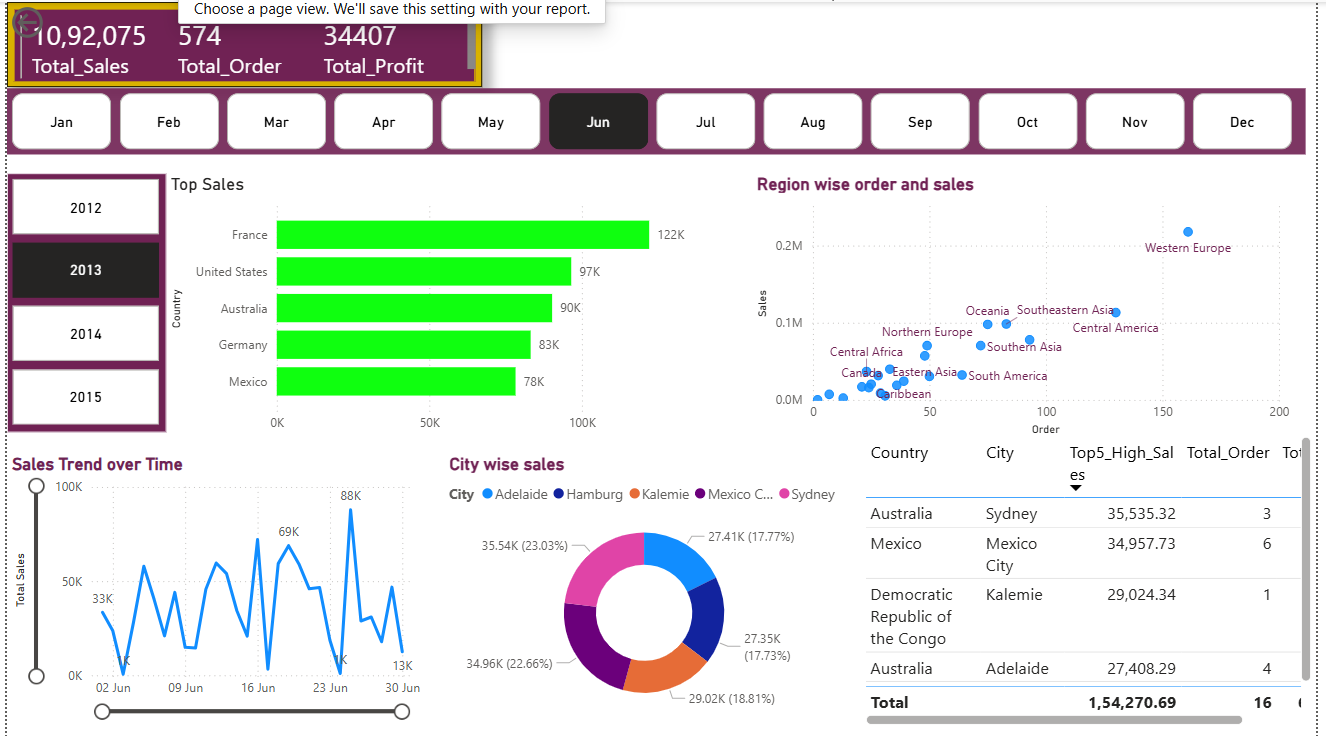

This screenshot's page, from the dashboard's own definition file:
{"tool":"powerbi","page":{"name":"Page 1","canvas":[1280,720],"ordinal":0},"visuals":[{"type":"multiRowCard","fields":{"Values":["Orders.Total_Sales","Orders.Total_Order","Orders.Total_Profit"]},"box":[0,0,464.5,83.6],"z":0},{"type":"barChart","title":"Top Sales","fields":{"Category":["Orders.Country"],"Y":["Orders.Top5_High_Sales"]},"box":[155.8,167.1,542.4,262],"z":1000},{"type":"advancedSlicerVisual","fields":{"Values":["Order_by_date.Month_name"]},"box":[0,85,1270.4,65.1],"z":2000},{"type":"advancedSlicerVisual","fields":{"Values":["Order_by_date.Year"]},"box":[0,167.1,155.8,253.5],"z":3000},{"type":"lineChart","title":"Sales Trend over Time","fields":{"Category":["Order_by_date.Date.Variation.Date Hierarchy.Year","Order_by_date.Date.Variation.Date Hierarchy.Month","Order_by_date.Date.Variation.Date Hierarchy.Day"],"Y":["Orders.Top5_High_Sales"]},"box":[0,441.9,409.3,263.4],"z":4000},{"type":"actionButton","box":[0,0,100,40],"z":5000},{"type":"tableEx","fields":{"Values":["Orders.Country","Orders.City","Orders.Top5_High_Sales","Orders.Total_Order","Orders.Total_Profit"]},"box":[834,420.7,446.3,291],"z":6000},{"type":"donutChart","title":"City wise sales","fields":{"Y":["Orders.Total_Sales"],"Series":["Orders.City"]},"box":[427.7,441.9,390.9,263.4],"z":7000},{"type":"scatterChart","title":"Region wise order and sales","fields":{"X":["Orders.Top_5_High_Orders"],"Y":["Orders.Top5_High_Sales"],"Category":["Orders.Region"]},"box":[728.8,167.5,530.7,261.7],"z":8000}]}

Visuals, with their boxes in screenshot pixels (x1, y1, x2, y2):
multiRowCard - Orders.Total_Sales x Orders.Total_Order: region(0, 0, 485, 84)
"Top Sales" barChart: region(163, 171, 729, 445)
advancedSlicerVisual - Order_by_date.Month_name: region(0, 85, 1325, 153)
advancedSlicerVisual - Order_by_date.Year: region(0, 171, 163, 436)
"Sales Trend over Time" lineChart: region(0, 458, 427, 733)
actionButton: region(0, 0, 104, 38)
tableEx - Orders.Country x Orders.City: region(871, 436, 1325, 736)
"City wise sales" donutChart: region(447, 458, 855, 733)
"Region wise order and sales" scatterChart: region(761, 171, 1315, 445)
